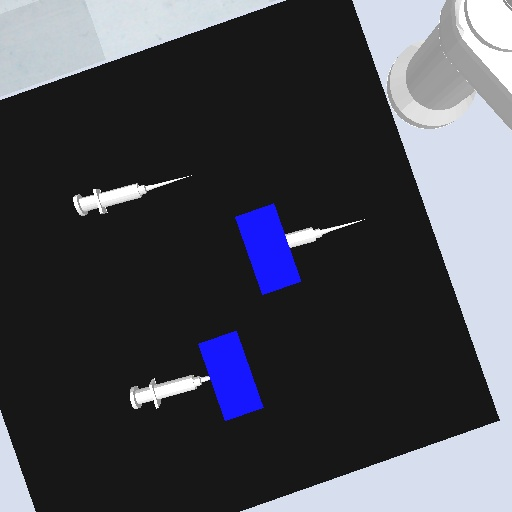jeringuilla: (68, 172, 199, 219), (126, 370, 212, 411), (283, 216, 370, 251)
